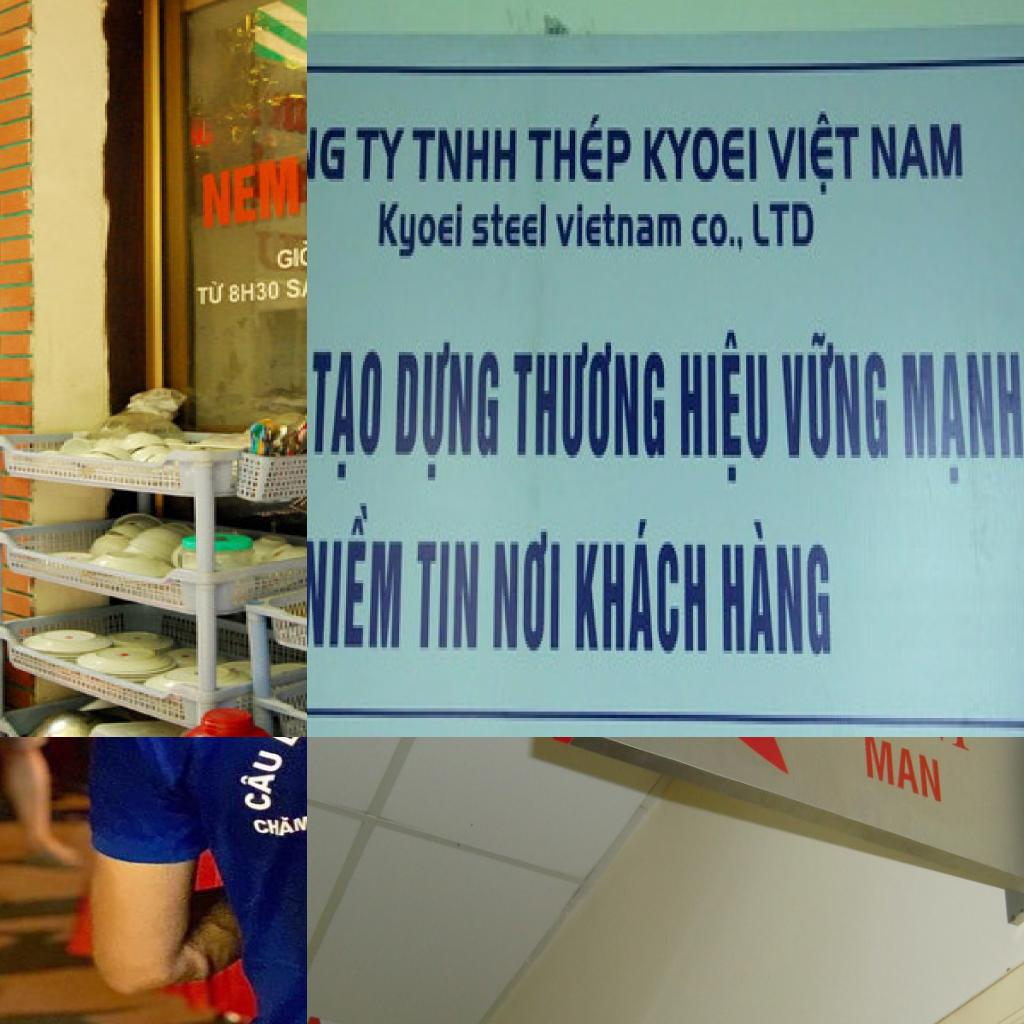text: (514, 340, 668, 464), (575, 519, 710, 657), (900, 349, 1024, 487), (392, 339, 502, 487), (720, 516, 835, 657), (679, 326, 772, 487), (307, 503, 406, 654), (778, 330, 892, 461), (307, 349, 385, 484), (527, 105, 633, 188), (493, 532, 563, 654), (767, 111, 864, 198), (201, 153, 305, 232), (414, 541, 481, 654), (644, 124, 760, 188), (411, 124, 520, 188), (554, 201, 684, 253), (856, 737, 942, 806), (871, 124, 966, 185), (378, 195, 464, 262), (232, 743, 294, 816), (471, 201, 549, 253), (354, 124, 408, 185), (307, 111, 347, 185), (690, 208, 748, 259), (226, 278, 284, 306), (246, 814, 307, 838), (275, 238, 307, 272), (196, 278, 228, 309), (282, 267, 307, 302)
